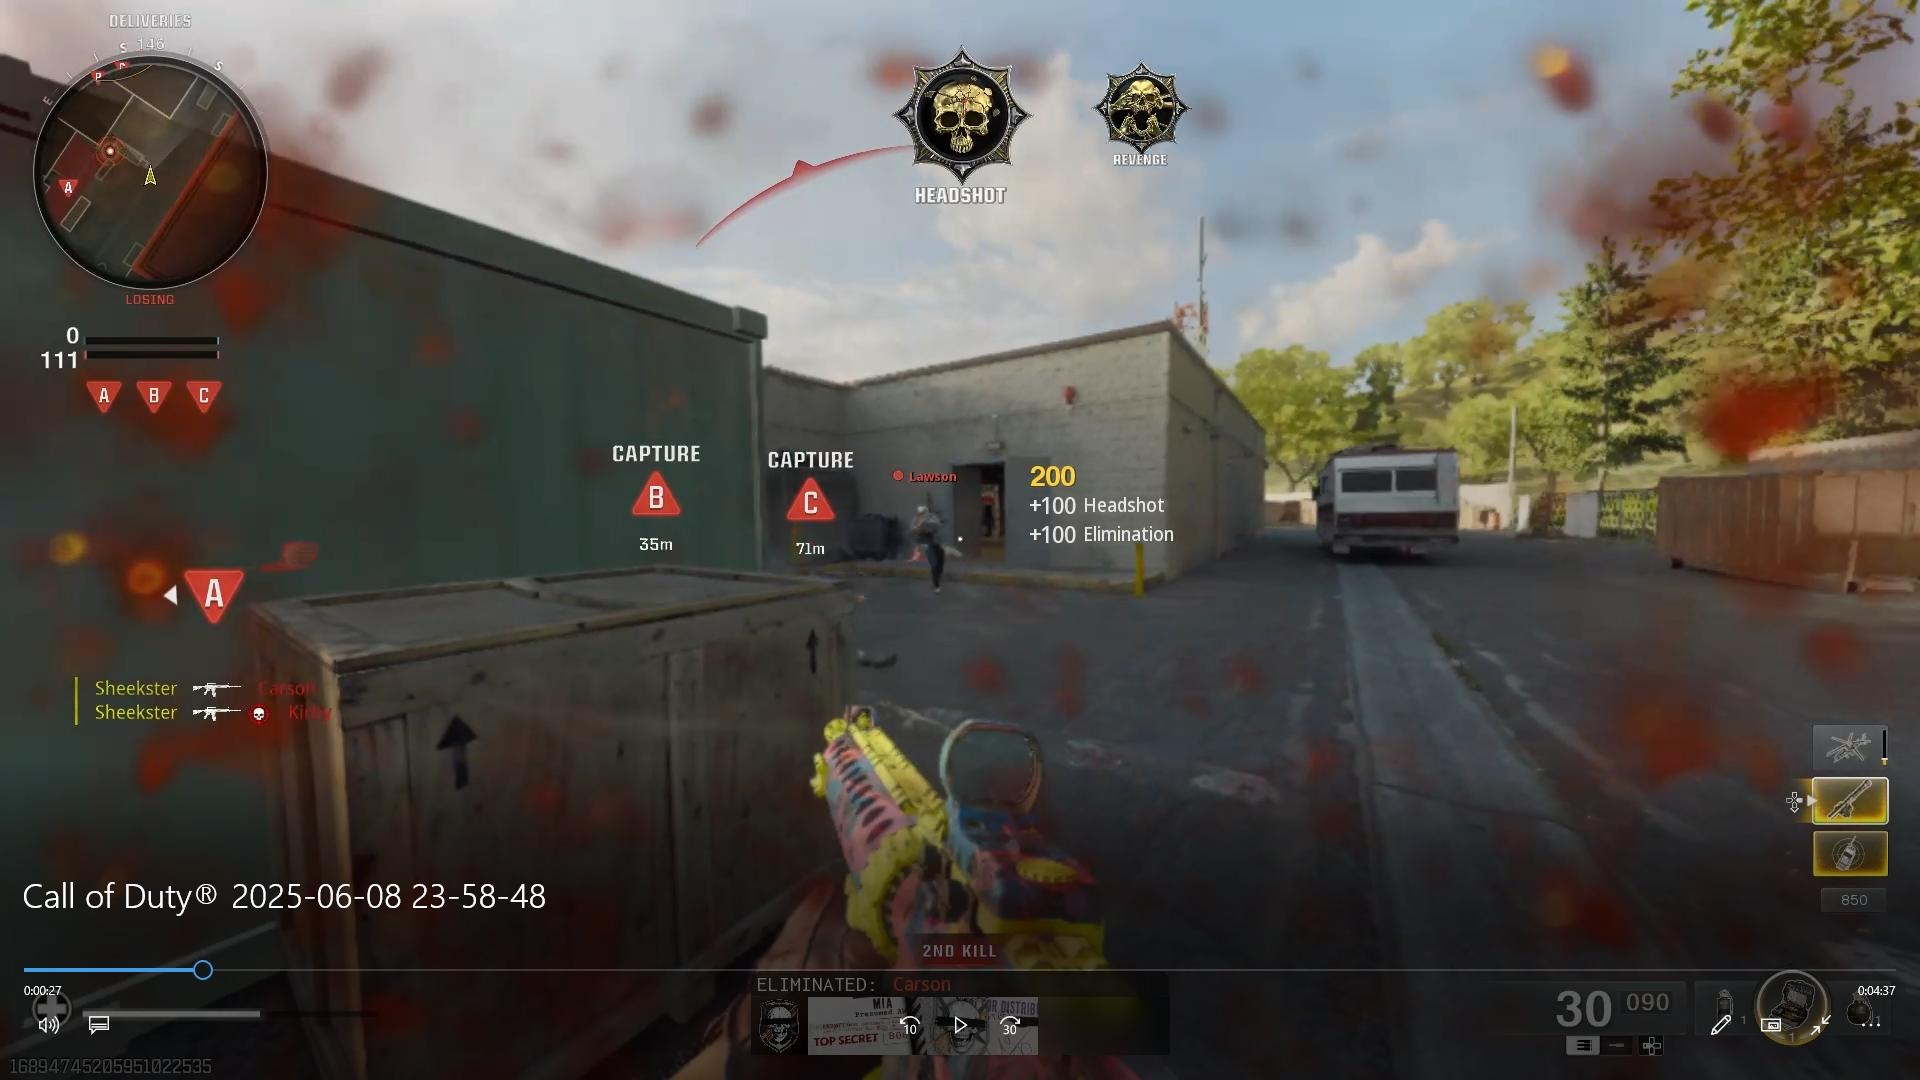Enemy: (899, 492, 963, 597)
